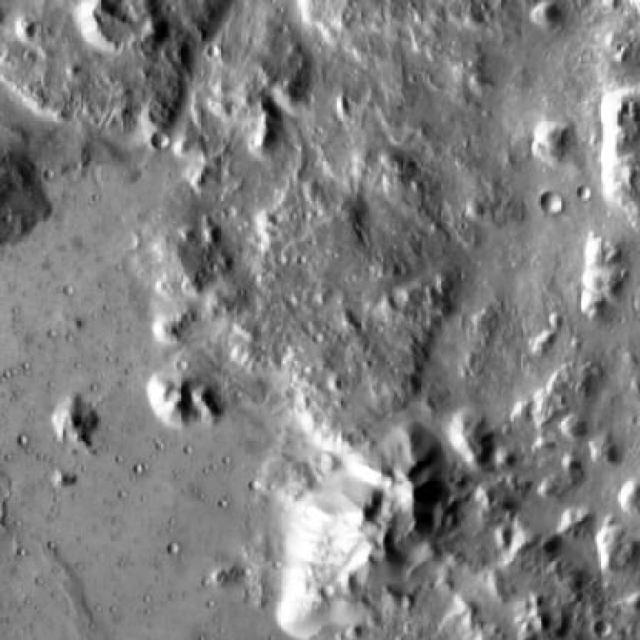crater: (540, 193, 563, 216), (391, 294, 412, 315), (153, 134, 170, 151), (594, 620, 612, 634), (579, 188, 590, 200)
